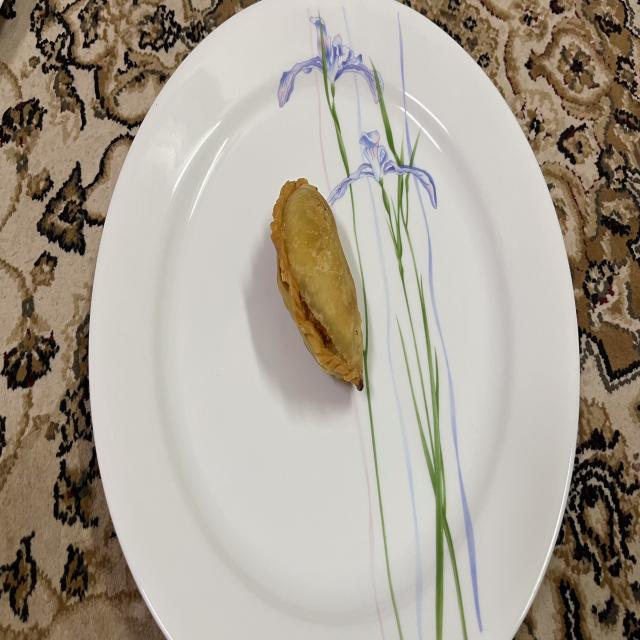karipap: (270, 178, 364, 391)
